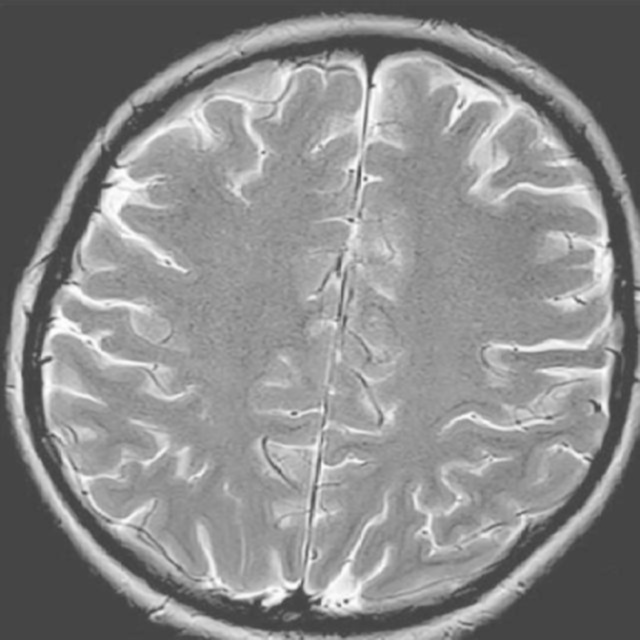glioma tumor: (165, 87, 497, 578)
